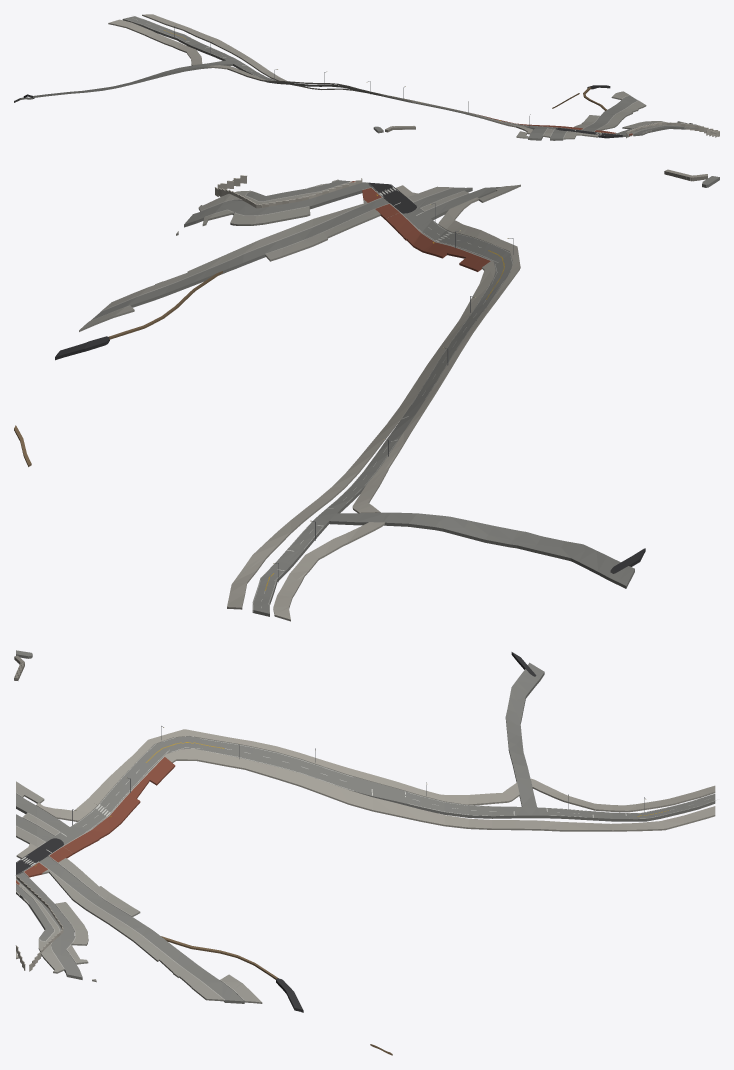
The picture shows the model from 3 angles, top to bottom: view 1: azimuth 30°, elevation 25°; view 2: azimuth 150°, elevation 25°; view 3: azimuth 270°, elevation 25°; orthographic projection. The views are drawn at different scales.
Size of the model in its own units: 293 by 96 by 294.
